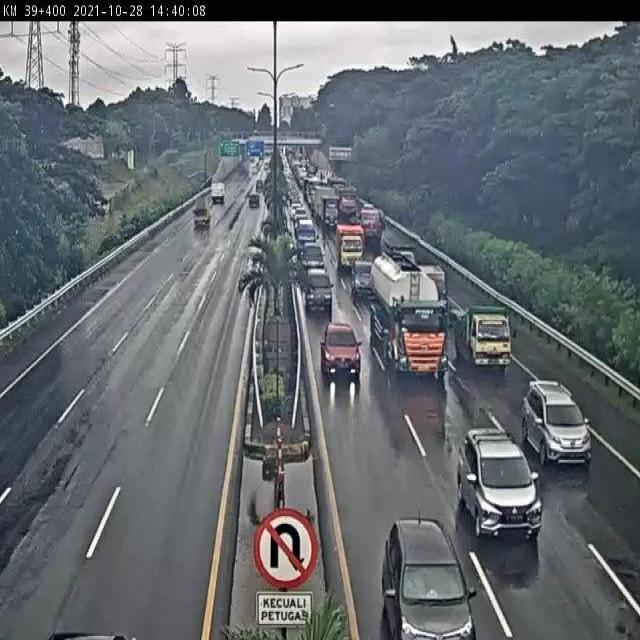car: (382, 518, 476, 640), (457, 428, 542, 533), (523, 380, 591, 468), (320, 320, 364, 380), (352, 260, 380, 301), (304, 269, 333, 308), (300, 241, 325, 271)
truck-m-: (447, 296, 510, 368), (336, 224, 364, 269)
truck-xl-: (370, 256, 445, 373)
